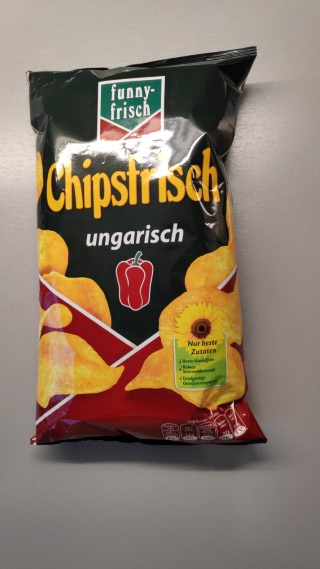chipsfrisch: (25, 45, 269, 446)
